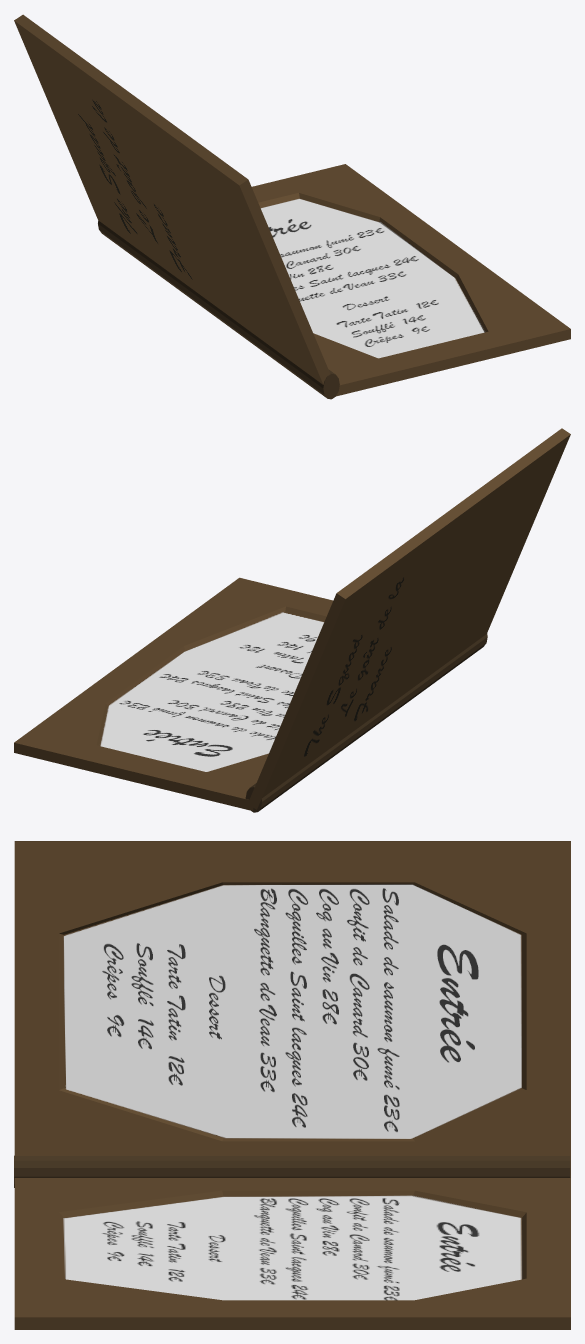
Rendered from Menu_open.fbx.
3 renders of one model, top to bottom at view 1: azimuth 30°, elevation 25°; view 2: azimuth 150°, elevation 25°; view 3: azimuth 270°, elevation 25°, orthographic. The views are drawn at different scales.
Visible parts, largest first — view 1: polySurface2; view 2: polySurface2; view 3: polySurface2.
Boxes of the visible parts, x1,y1,x2,y2 form: polySurface2: (14, 14, 570, 399); polySurface2: (14, 428, 570, 812); polySurface2: (14, 841, 570, 1329).
Size of the model in its own units: 36.85 by 25.48 by 43.46.
